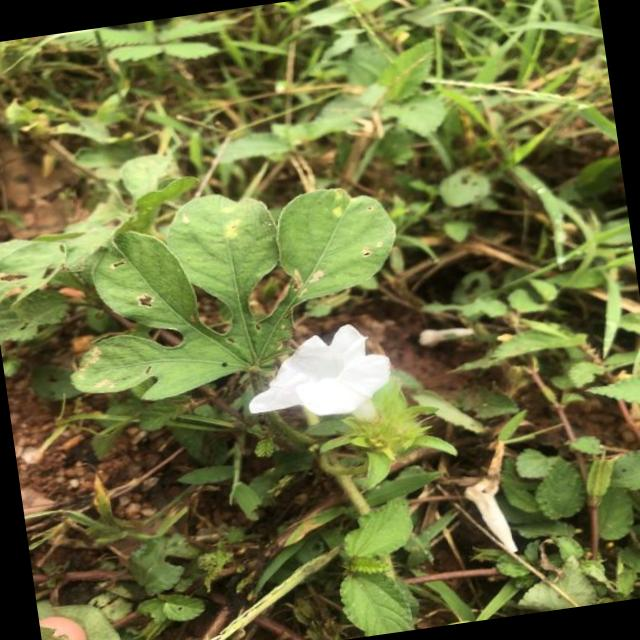ipomoea: (235, 316, 402, 434)
